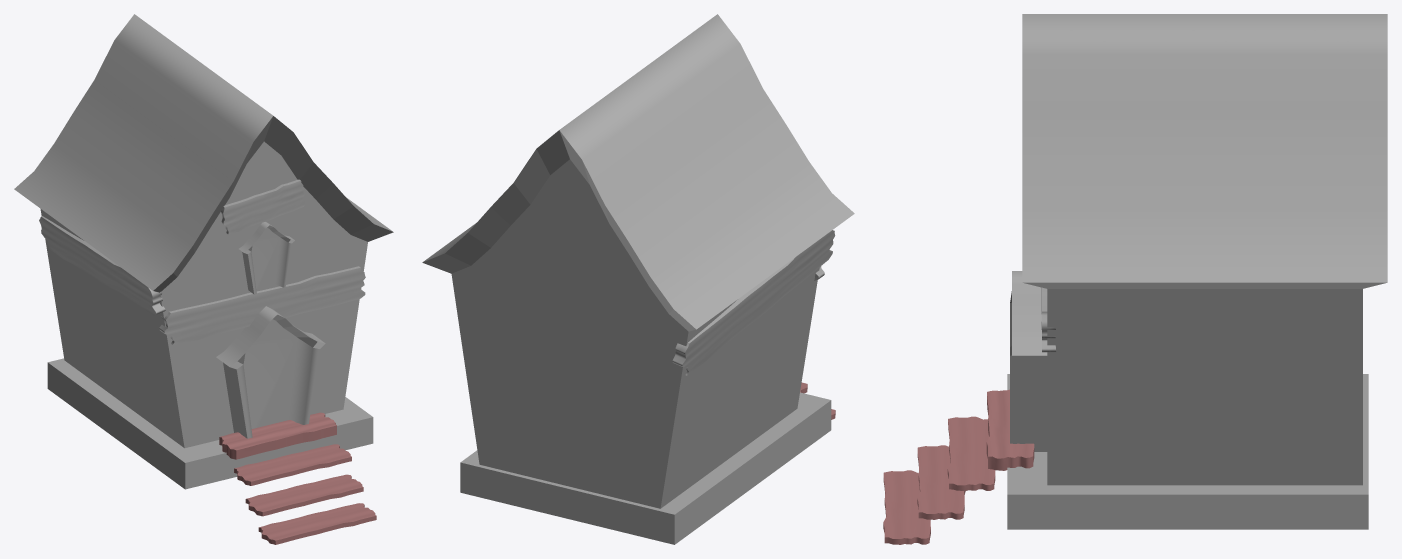
Rendered from house.fbx.
3 views of the same model, side by side, from view 1: azimuth 30°, elevation 25°; view 2: azimuth 150°, elevation 25°; view 3: azimuth 270°, elevation 25° (orthographic). The views are drawn at different scales.
Visible parts, largest first — view 1: pCube1, pPlane1, pCube3, pCube5, pCube11, pCube7, pCube4, pCube6, pCube9, pCube10, pCube8; view 2: pCube1, pPlane1, pCube11; view 3: pCube1, pPlane1, pCube3, pCube8, pCube10, pCube9, pCube7.
Part boxes in pixels (x1,y1,x2,y2): pCube1: [14, 14, 393, 448]; pPlane1: [47, 358, 373, 489]; pCube3: [216, 306, 325, 438]; pCube5: [159, 266, 365, 344]; pCube11: [39, 216, 165, 315]; pCube7: [219, 412, 336, 459]; pCube4: [239, 222, 294, 294]; pCube6: [221, 179, 305, 234]; pCube9: [245, 474, 363, 516]; pCube10: [258, 503, 376, 544]; pCube8: [234, 444, 351, 485]; pCube1: [422, 14, 854, 508]; pPlane1: [460, 392, 831, 544]; pCube11: [672, 230, 835, 375]; pCube1: [1022, 14, 1387, 485]; pPlane1: [1007, 374, 1368, 529]; pCube3: [1010, 271, 1047, 451]; pCube8: [947, 416, 995, 491]; pCube10: [883, 470, 930, 544]; pCube9: [917, 445, 965, 519]; pCube7: [986, 389, 1034, 470].
Size of the model in its own units: 7.58 by 11.38 by 10.47.
